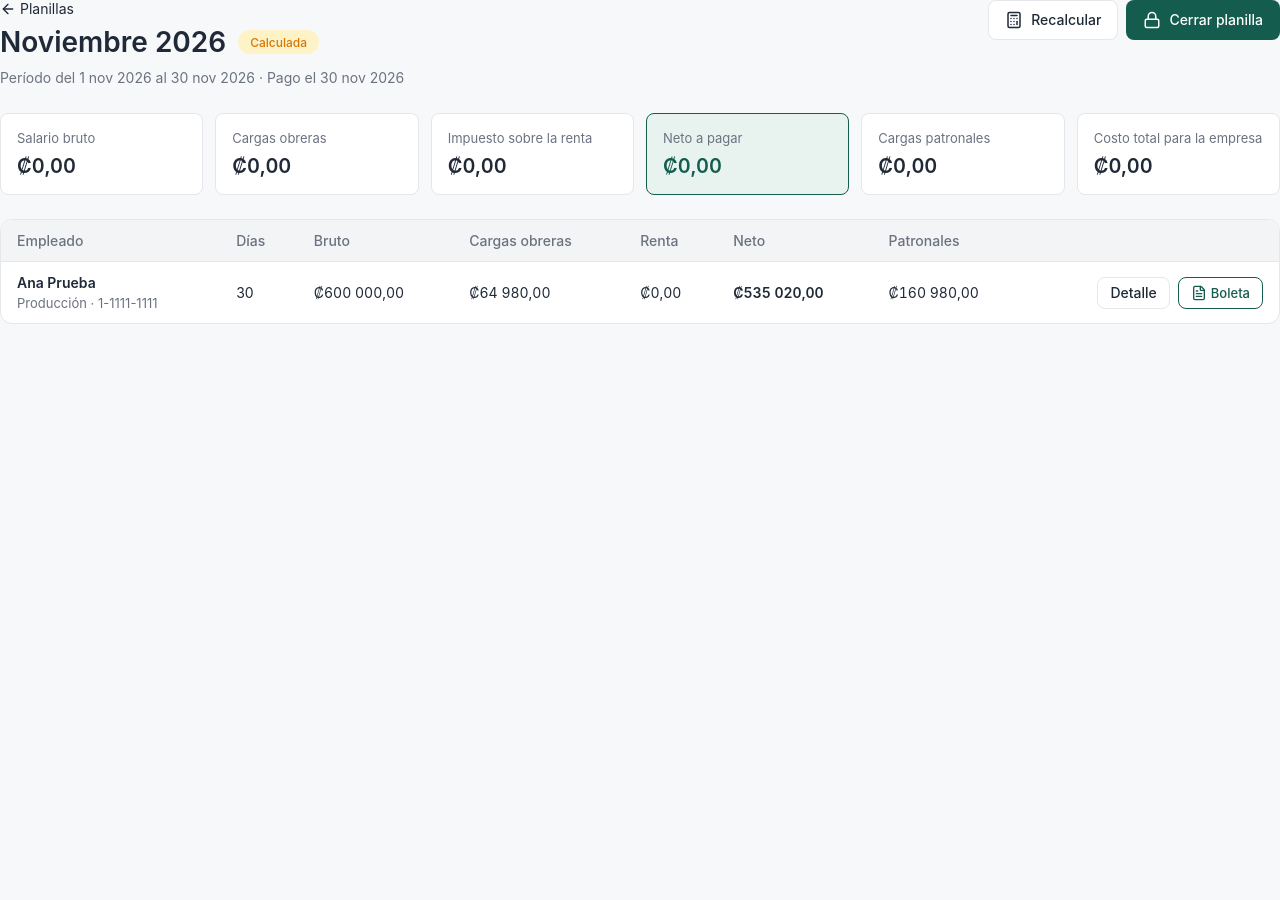
Test case: Payroll pages › closes a calculated payroll after confirmation
Step 1. Click the button "Cerrar planilla" → (1203,20), box top-left (1126, 0), bottom-right (1279, 40)
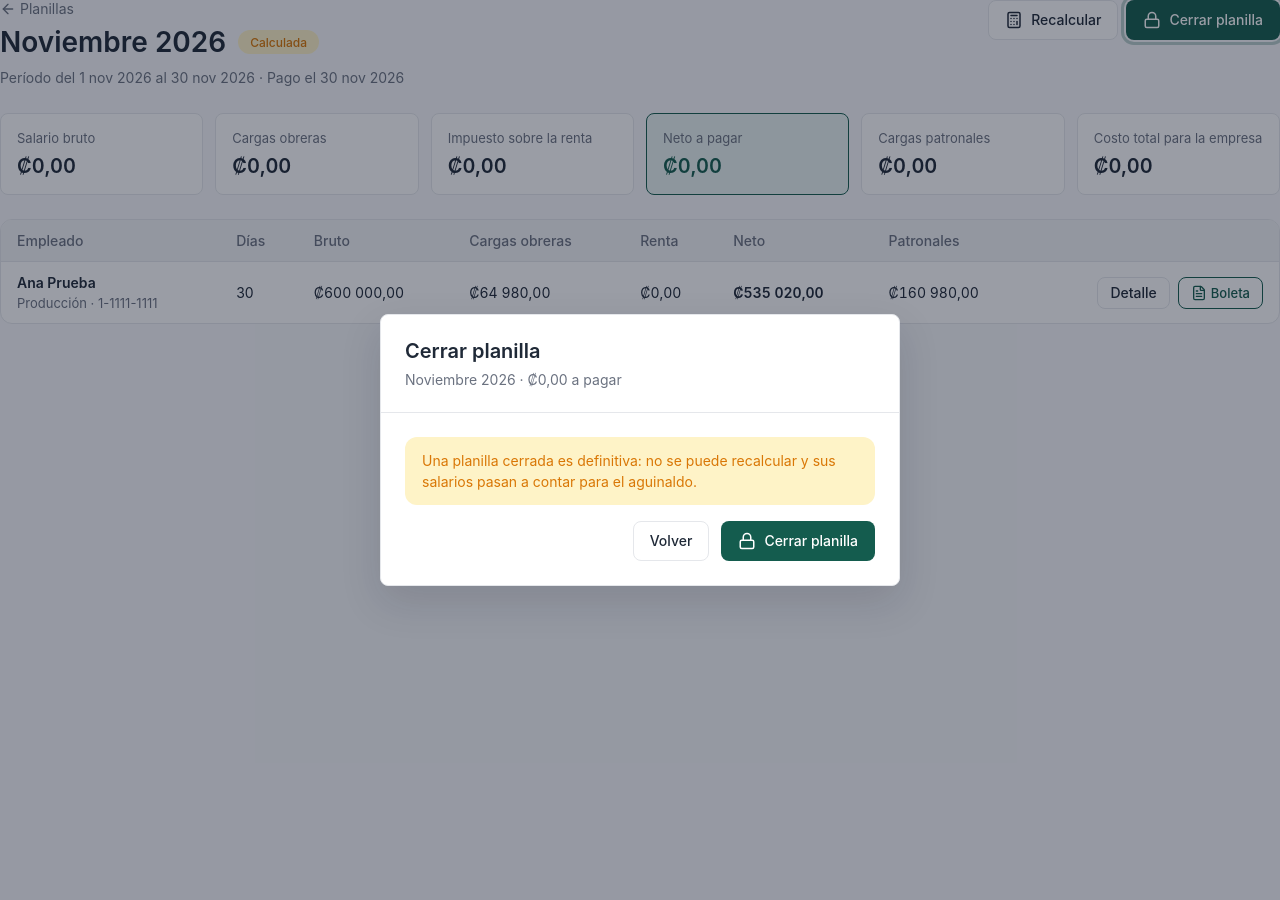
Step 2. Click the button "Cerrar planilla" → (798,541), box top-left (721, 521), bottom-right (875, 561)
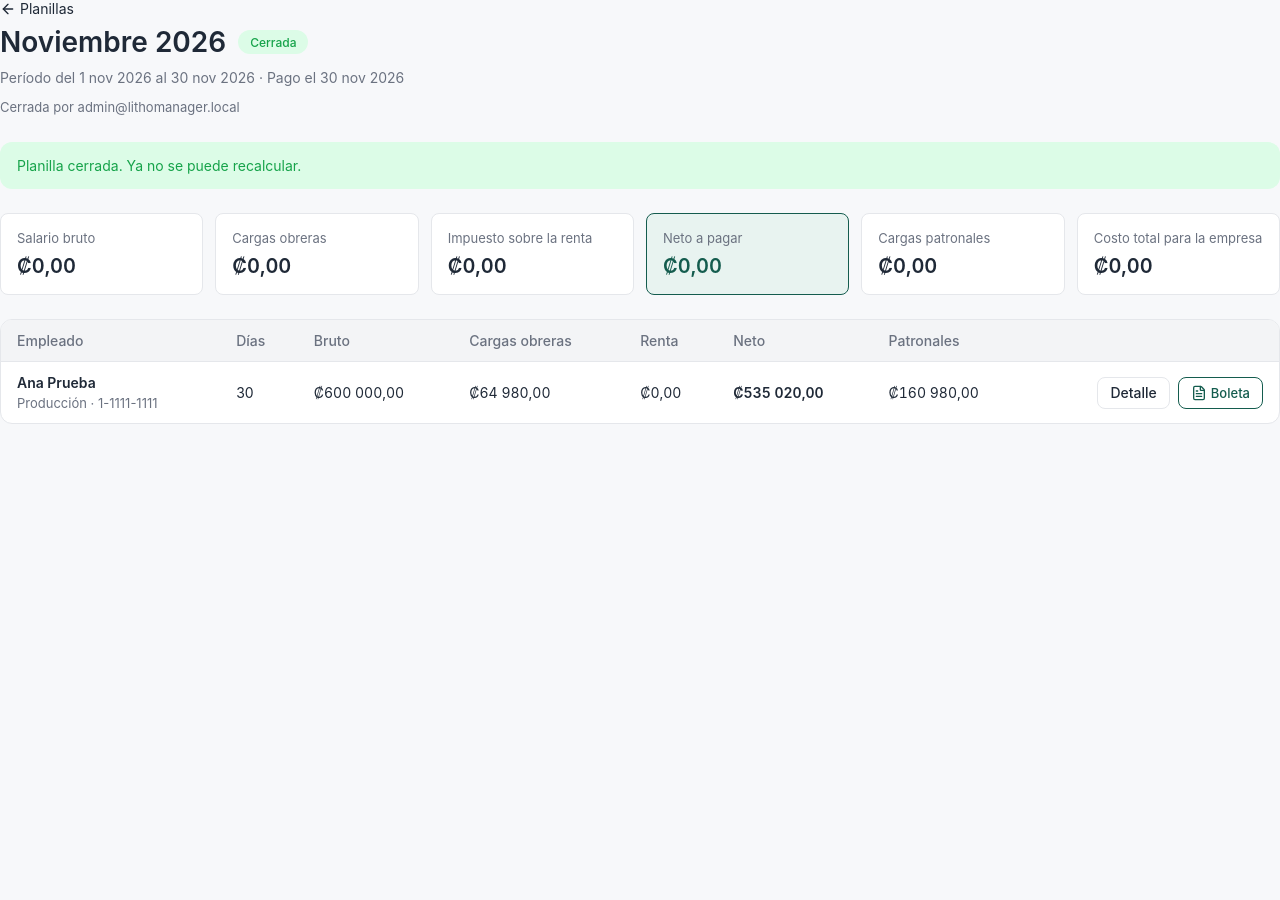
Check: the text "Planilla cerrada. Ya no se puede recalcular." is shown, box top-left (0, 142), bottom-right (1279, 189)
